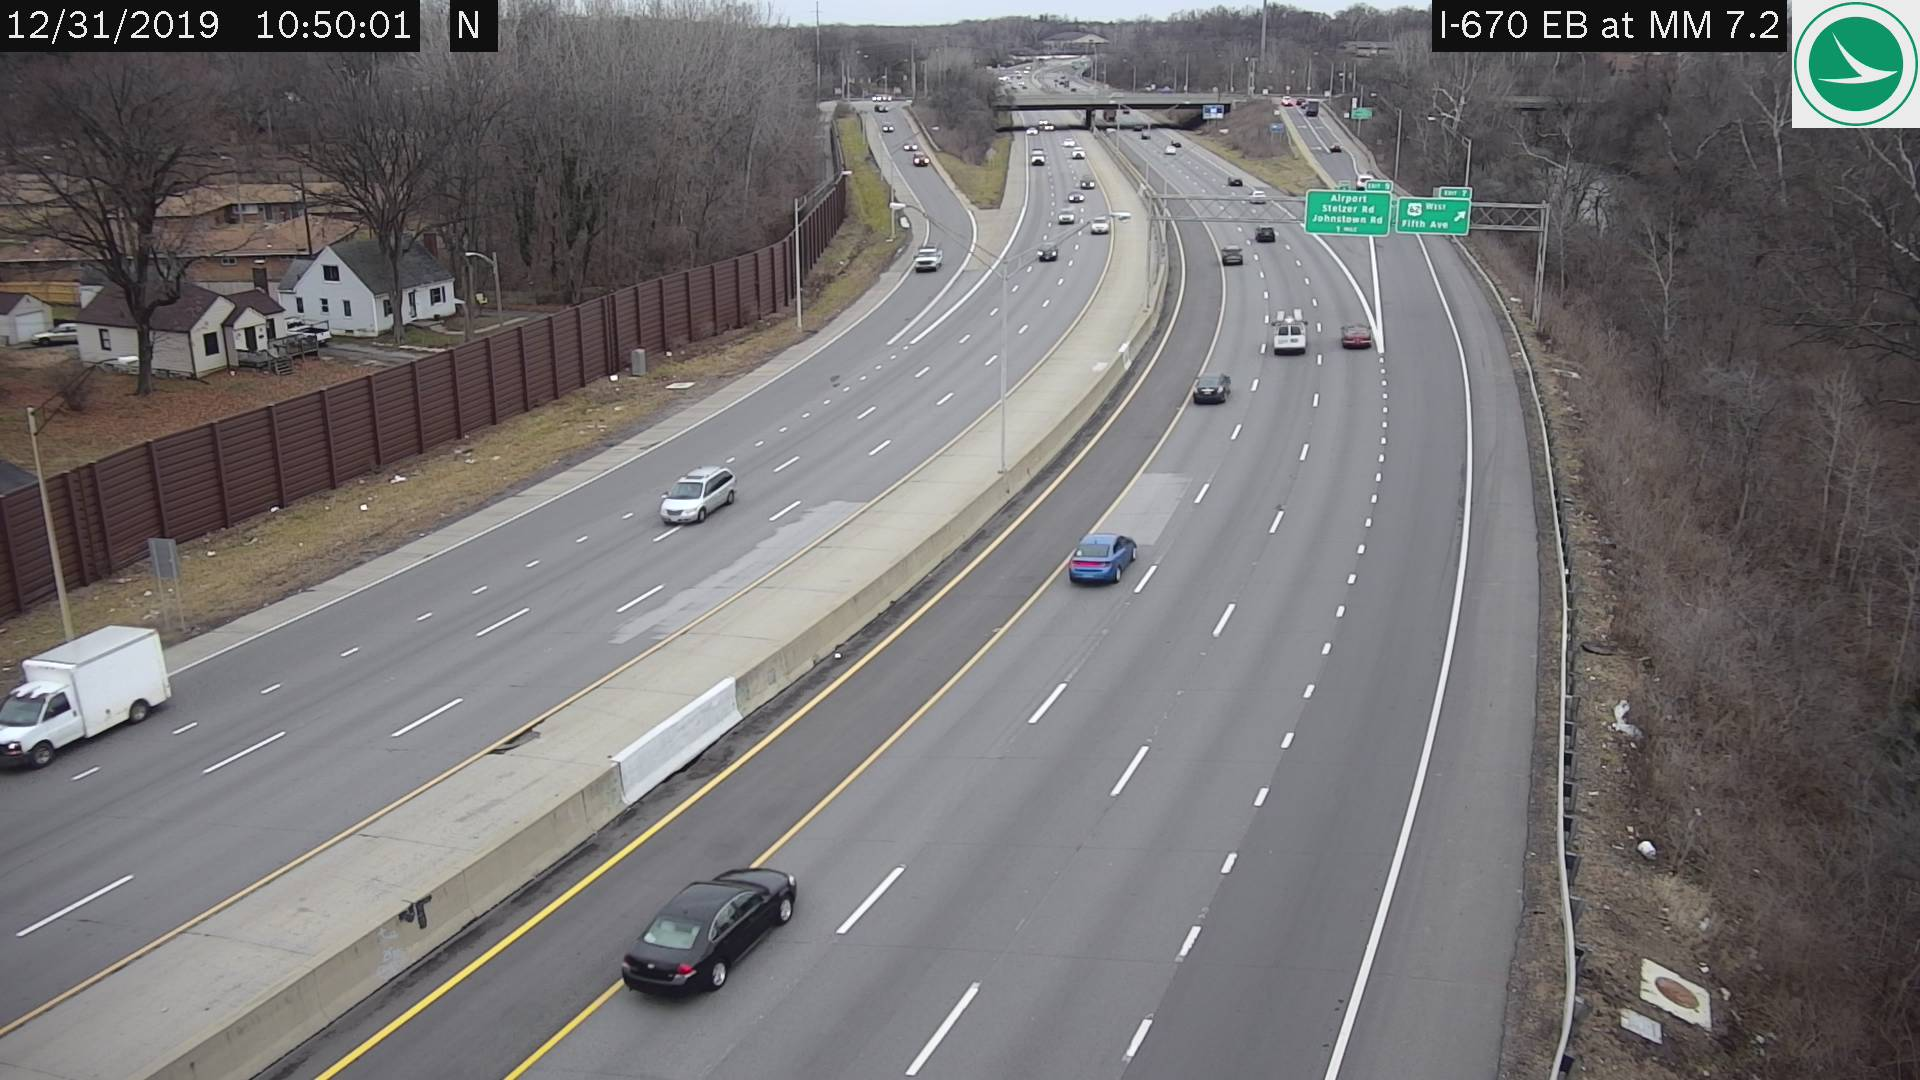car: (3, 620, 174, 767), (618, 868, 794, 1000), (658, 464, 735, 524), (1065, 531, 1138, 584), (1270, 316, 1309, 352), (1193, 368, 1230, 404), (1338, 320, 1374, 352), (914, 247, 943, 272), (1218, 244, 1242, 264), (1036, 243, 1058, 262), (1247, 186, 1267, 204), (1088, 215, 1108, 233), (1254, 224, 1274, 240), (1056, 208, 1073, 224), (1030, 146, 1044, 164), (1067, 189, 1085, 202), (1080, 173, 1095, 189), (1225, 175, 1244, 186)
